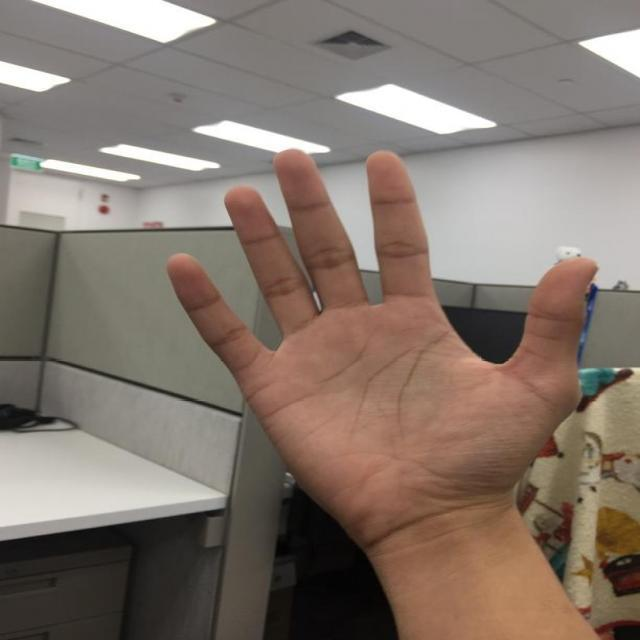hand: (162, 149, 600, 537)
